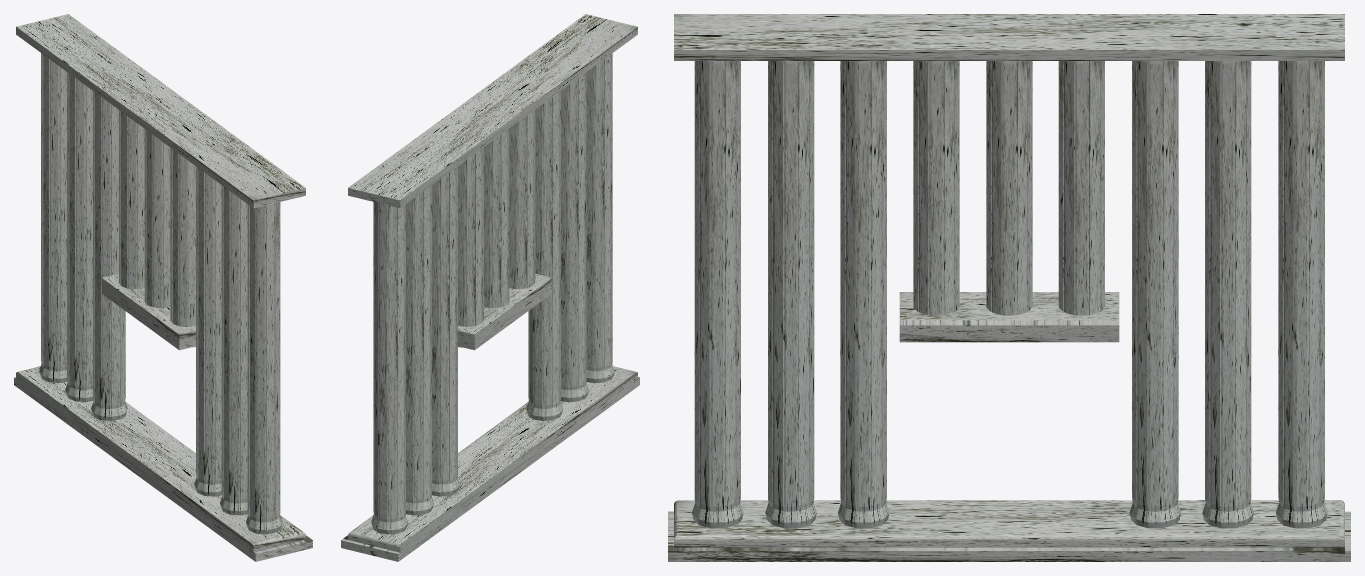
File: GateOpen.fbx
The picture shows the model from 3 angles, left to right: view 1: azimuth 30°, elevation 25°; view 2: azimuth 150°, elevation 25°; view 3: azimuth 270°, elevation 25°; orthographic projection. The views are drawn at different scales.
Parts seen in each view (by area): view 1: pCylinder25, pCube2, pCube1, pCube3; view 2: pCylinder25, pCube2, pCube1, pCube3; view 3: pCylinder25, pCube1, pCube2, pCube3.
Part boxes in pixels (x1=…): pCylinder25: x1=39, y1=53, x2=282, y2=534; pCube2: x1=16, y1=14, x2=305, y2=208; pCube1: x1=14, y1=366, x2=312, y2=561; pCube3: x1=101, y1=273, x2=195, y2=350; pCylinder25: x1=371, y1=53, x2=614, y2=534; pCube2: x1=348, y1=14, x2=637, y2=208; pCube1: x1=341, y1=366, x2=639, y2=561; pCube3: x1=458, y1=273, x2=552, y2=350; pCylinder25: x1=692, y1=61, x2=1327, y2=528; pCube1: x1=668, y1=500, x2=1350, y2=561; pCube2: x1=674, y1=14, x2=1344, y2=60; pCube3: x1=899, y1=292, x2=1119, y2=342.
Size of the model in its own units: 7.67 by 45.97 by 55.95.
1 material, 1 textured.
